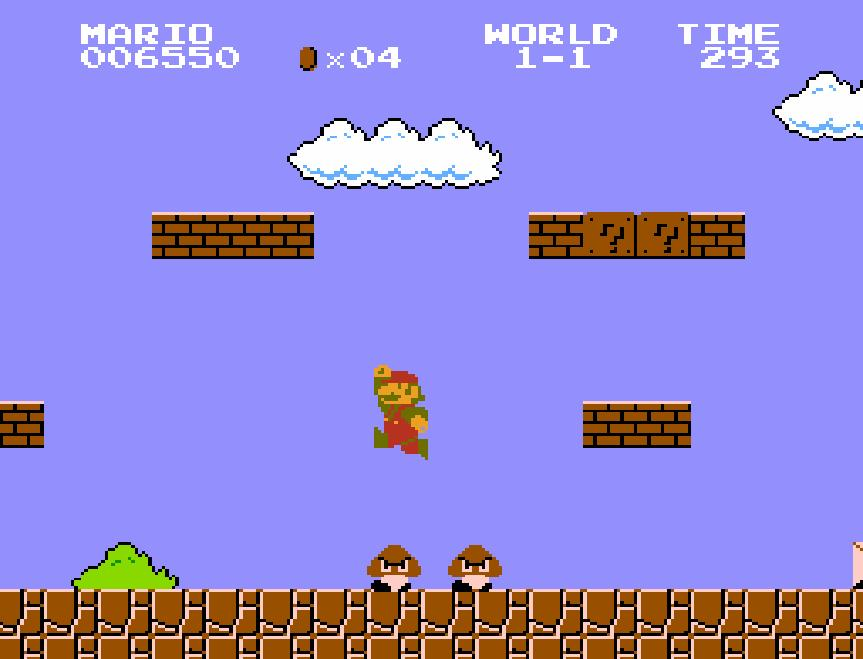big_mario: (372, 363, 430, 461)
